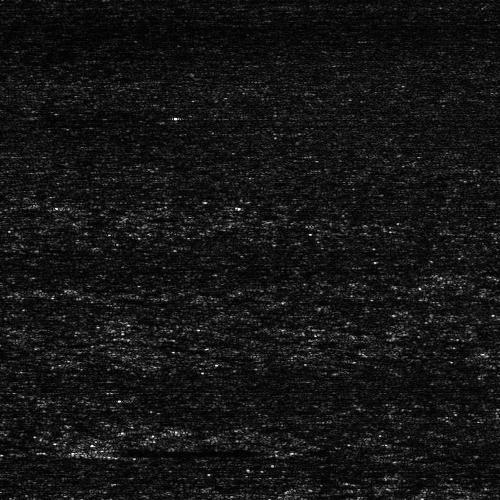object: (56, 443, 139, 456)
shadow: (98, 443, 222, 456)
